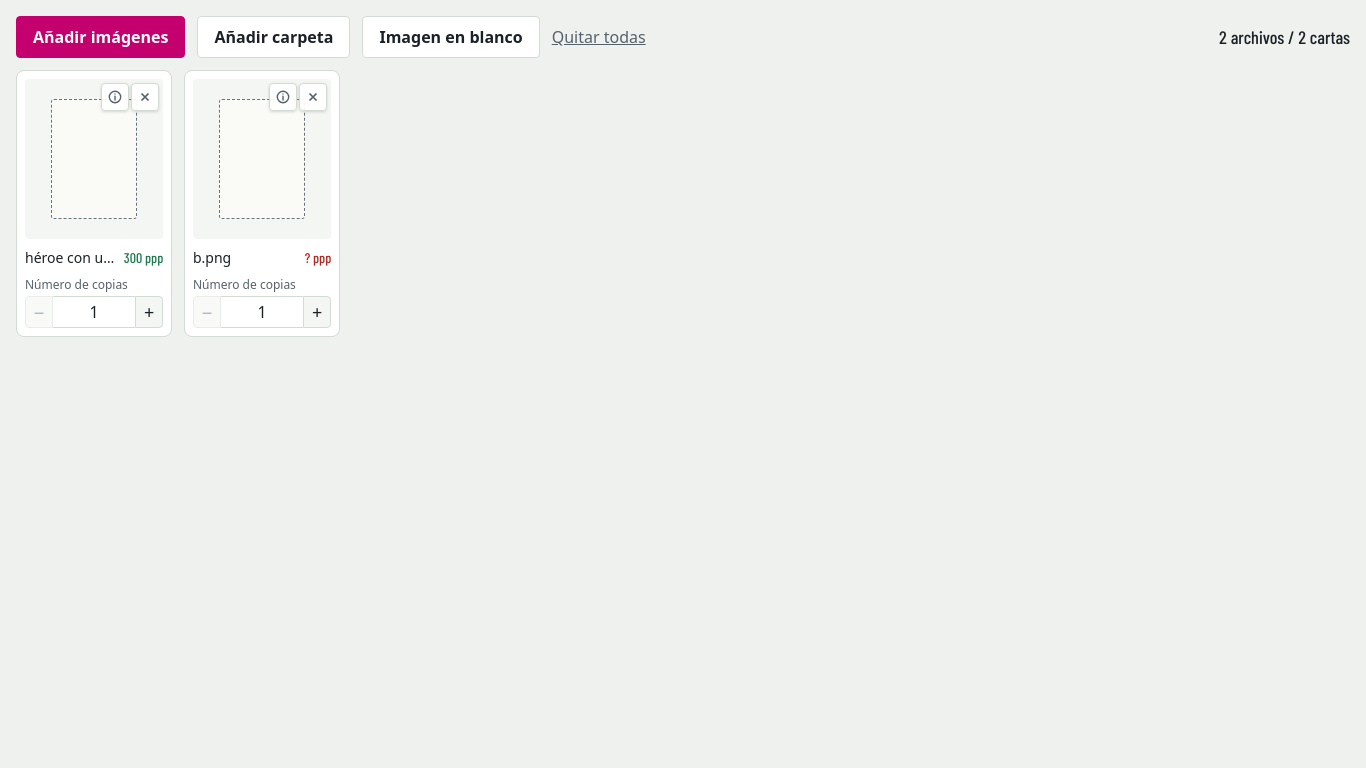
Test: CardTray › muestra la información de cada carta y se cierra con Esc
Click the button named "Información de héroe con un nombre largo.png": (115, 97) [101,83,129,111]
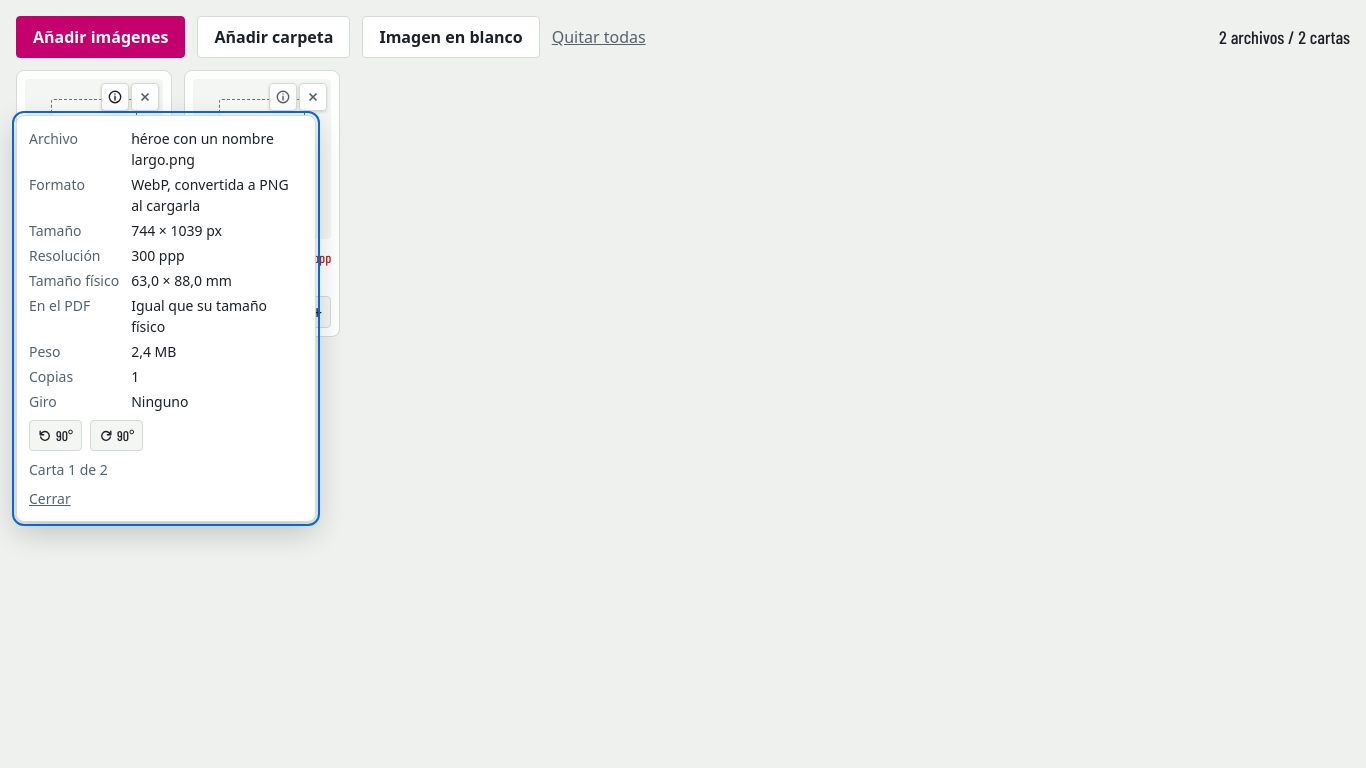
Result: the dialog named "Información de héroe" shows "WebP, convertida a PNG al cargarla" at [131,175,289,215]
Result: the dialog named "Información de héroe" shows "744 × 1039 px" at [131,221,222,240]
Result: the dialog named "Información de héroe" shows "300 ppp" at [131,246,185,265]
Press Escape
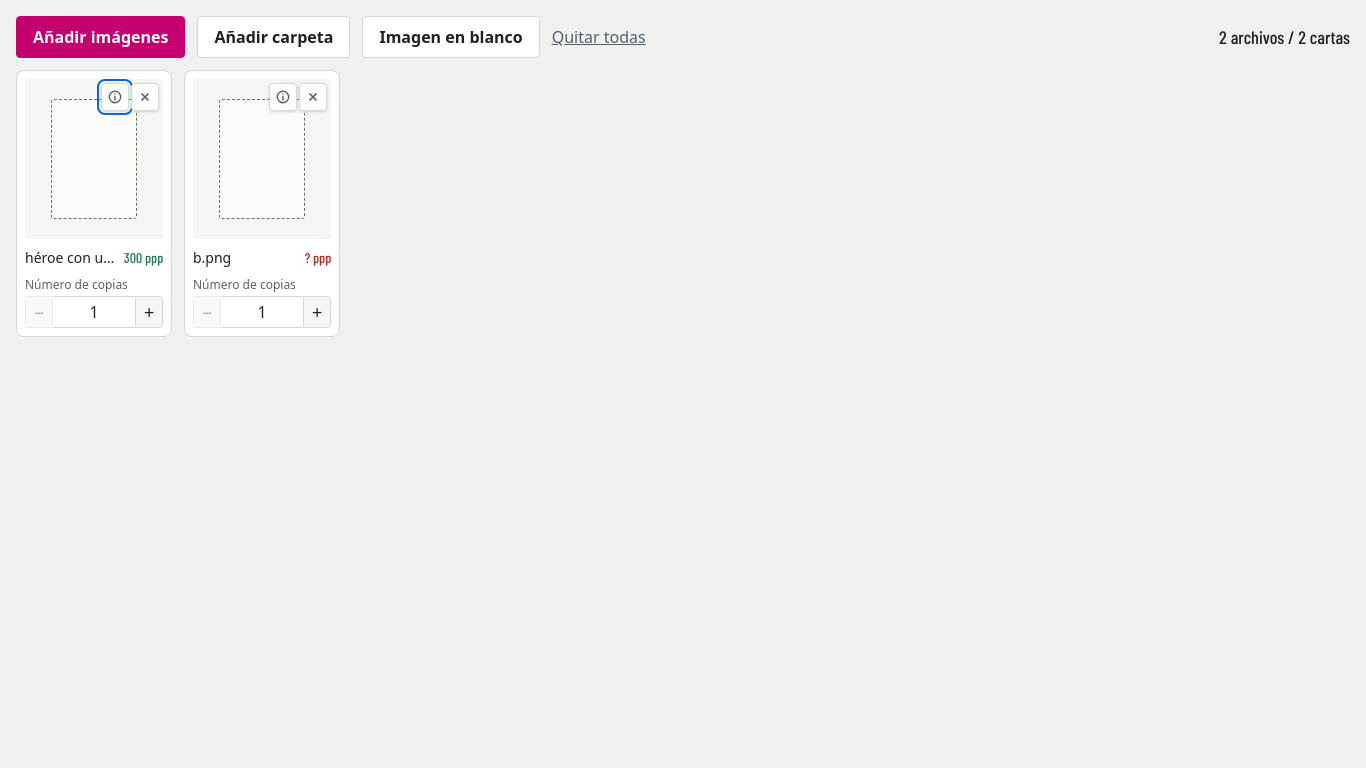
Result: the dialog is gone
Click the button named "Información de b.png": (284, 97) [270,83,298,111]
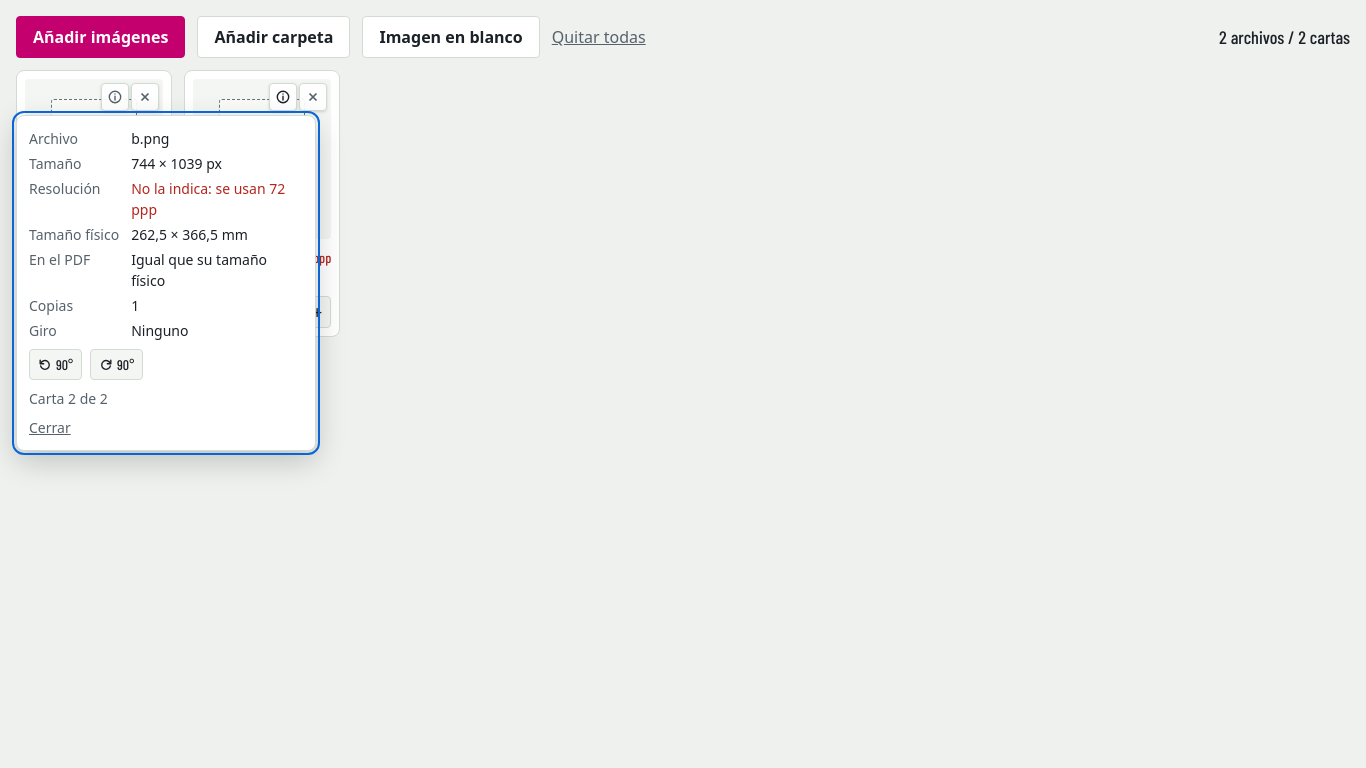
Result: the dialog shows "No la indica: se usan 72 ppp" at [131,179,285,219]
